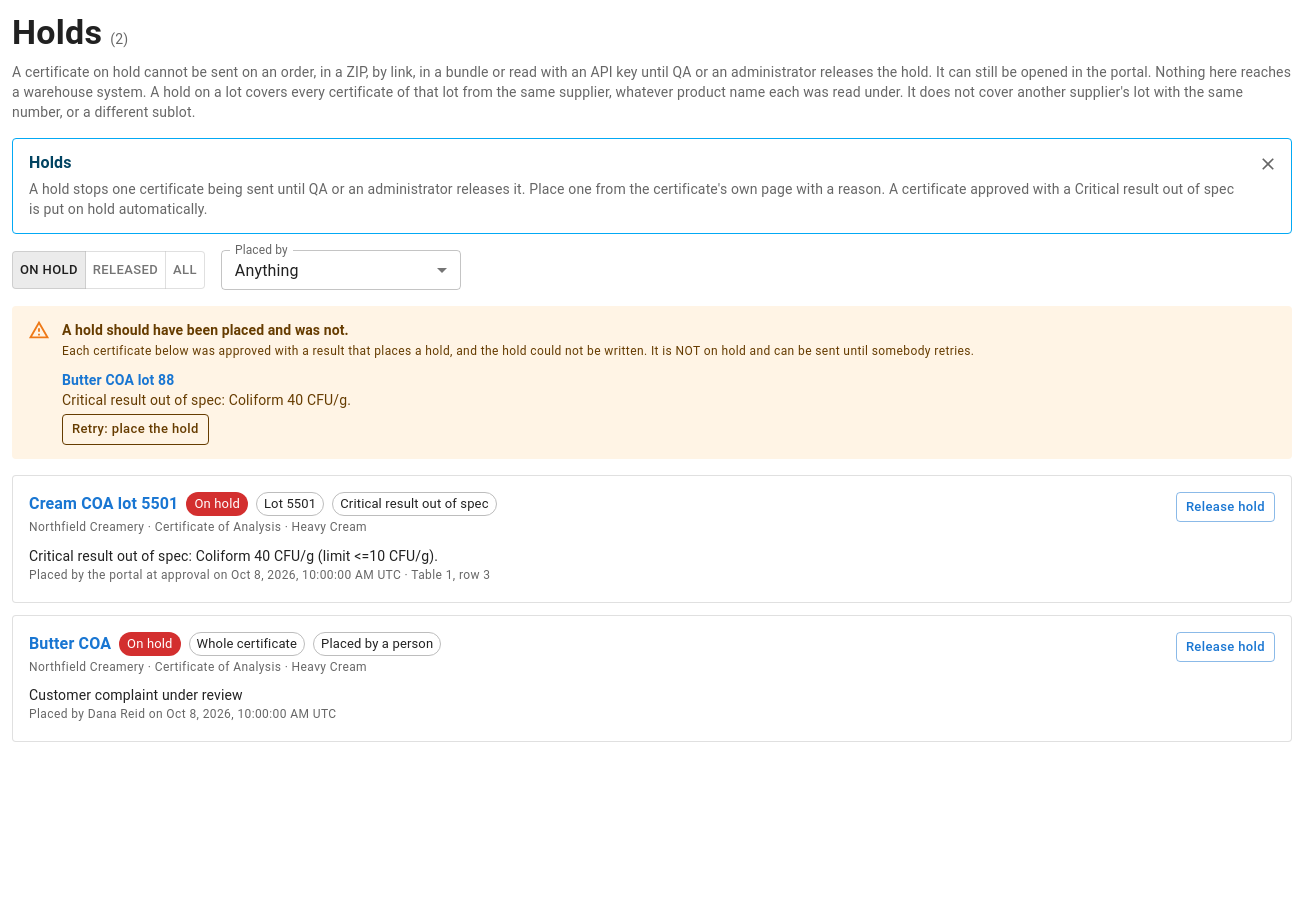
Holds page › a hold that should have been placed and was not is on top, with a retry (C-087)
Expected: the message with test id "holds-failures" shows "A hold should have been placed and was not.", x1=62 y1=322 x2=349 y2=338
Expected: the message with test id "holds-failures" shows "It is NOT on hold and can be sent until somebody retries.", x1=62 y1=344 x2=974 y2=358
Click the button with test id "holds-failure-retry".
click(135, 429)  # box x1=62 y1=414 x2=209 y2=445
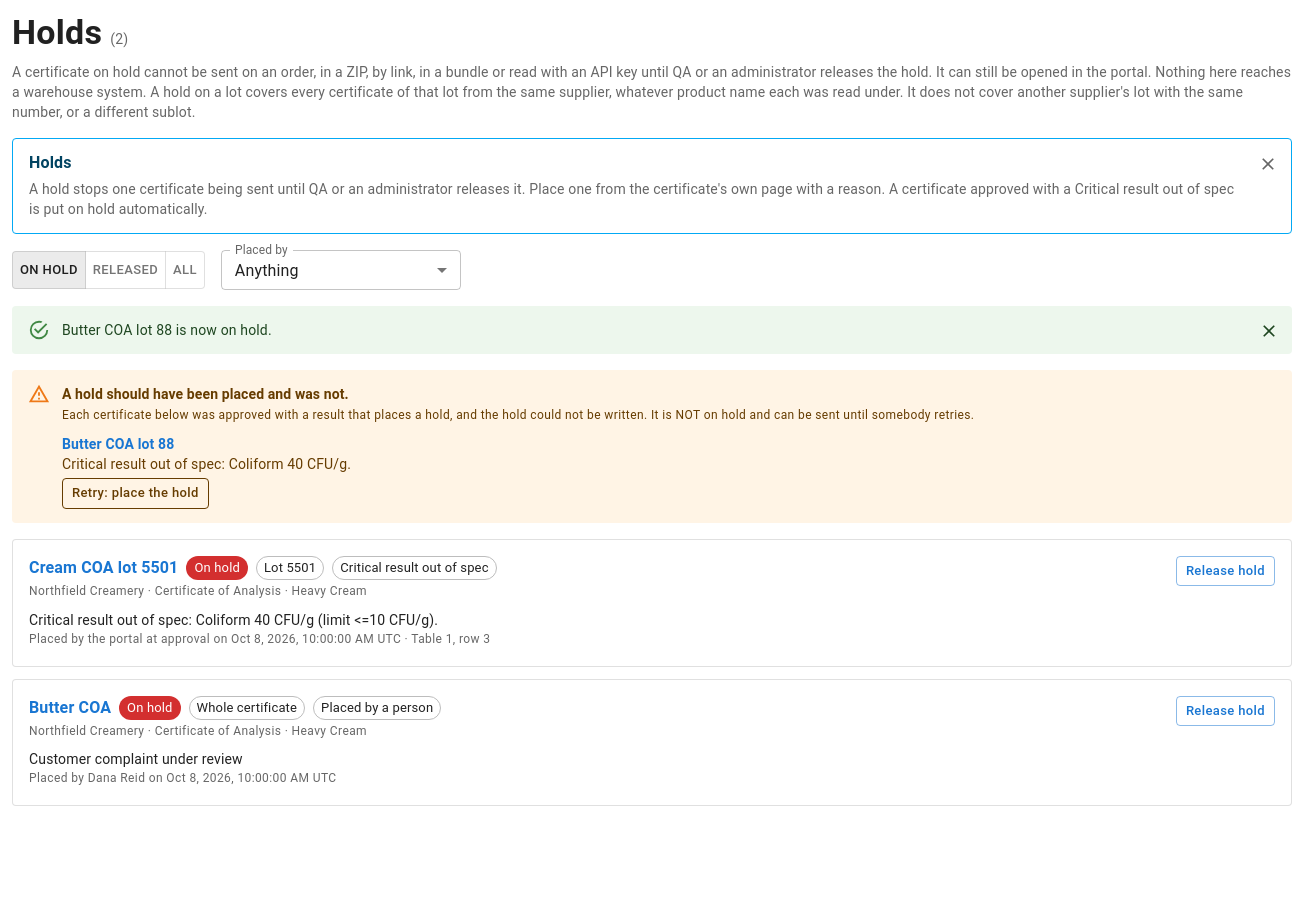
Now the message with test id "holds-notice" reads "Butter COA lot 88 is now on hold.", box x1=62 y1=322 x2=272 y2=338
